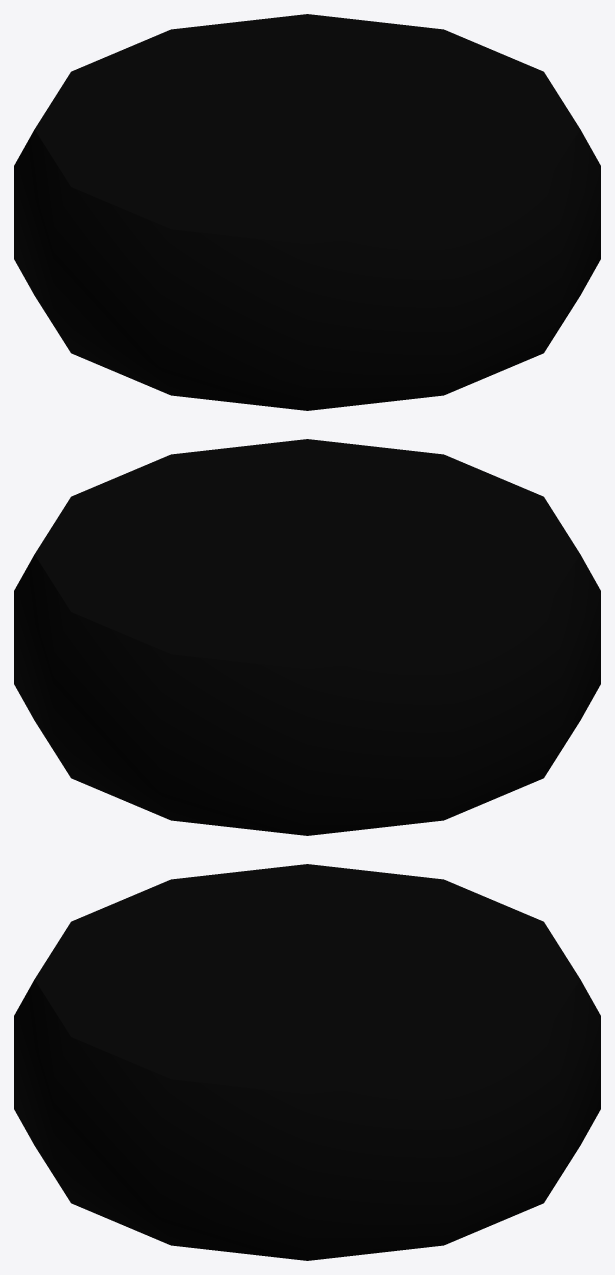
File: SM_tire.fbx
3 renders of one model, top to bottom at view 1: azimuth 30°, elevation 25°; view 2: azimuth 150°, elevation 25°; view 3: azimuth 270°, elevation 25°, orthographic.
Visible parts, largest first — view 1: tire; view 2: tire; view 3: tire.
Boxes of the visible parts, x1,y1,x2,y2 form: tire: (14, 14, 600, 410); tire: (14, 439, 600, 835); tire: (14, 864, 600, 1260).
Bounding box in the file's own units: 0.64 × 0.2 × 0.64.
